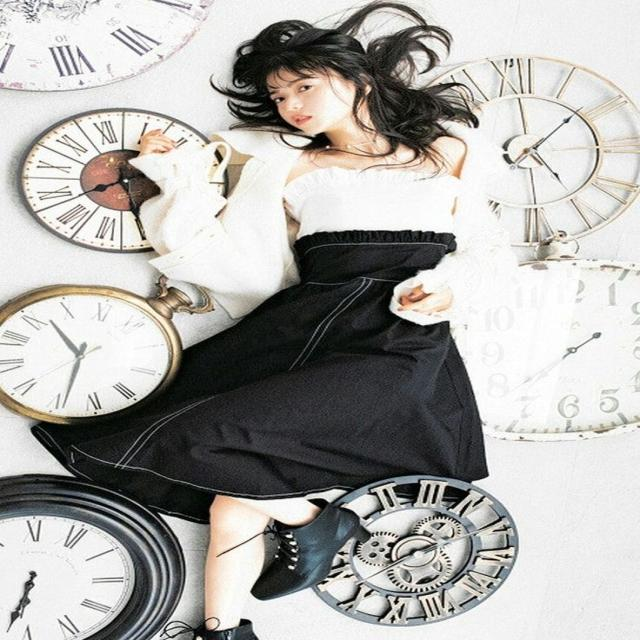lie: (178, 14, 496, 640)
